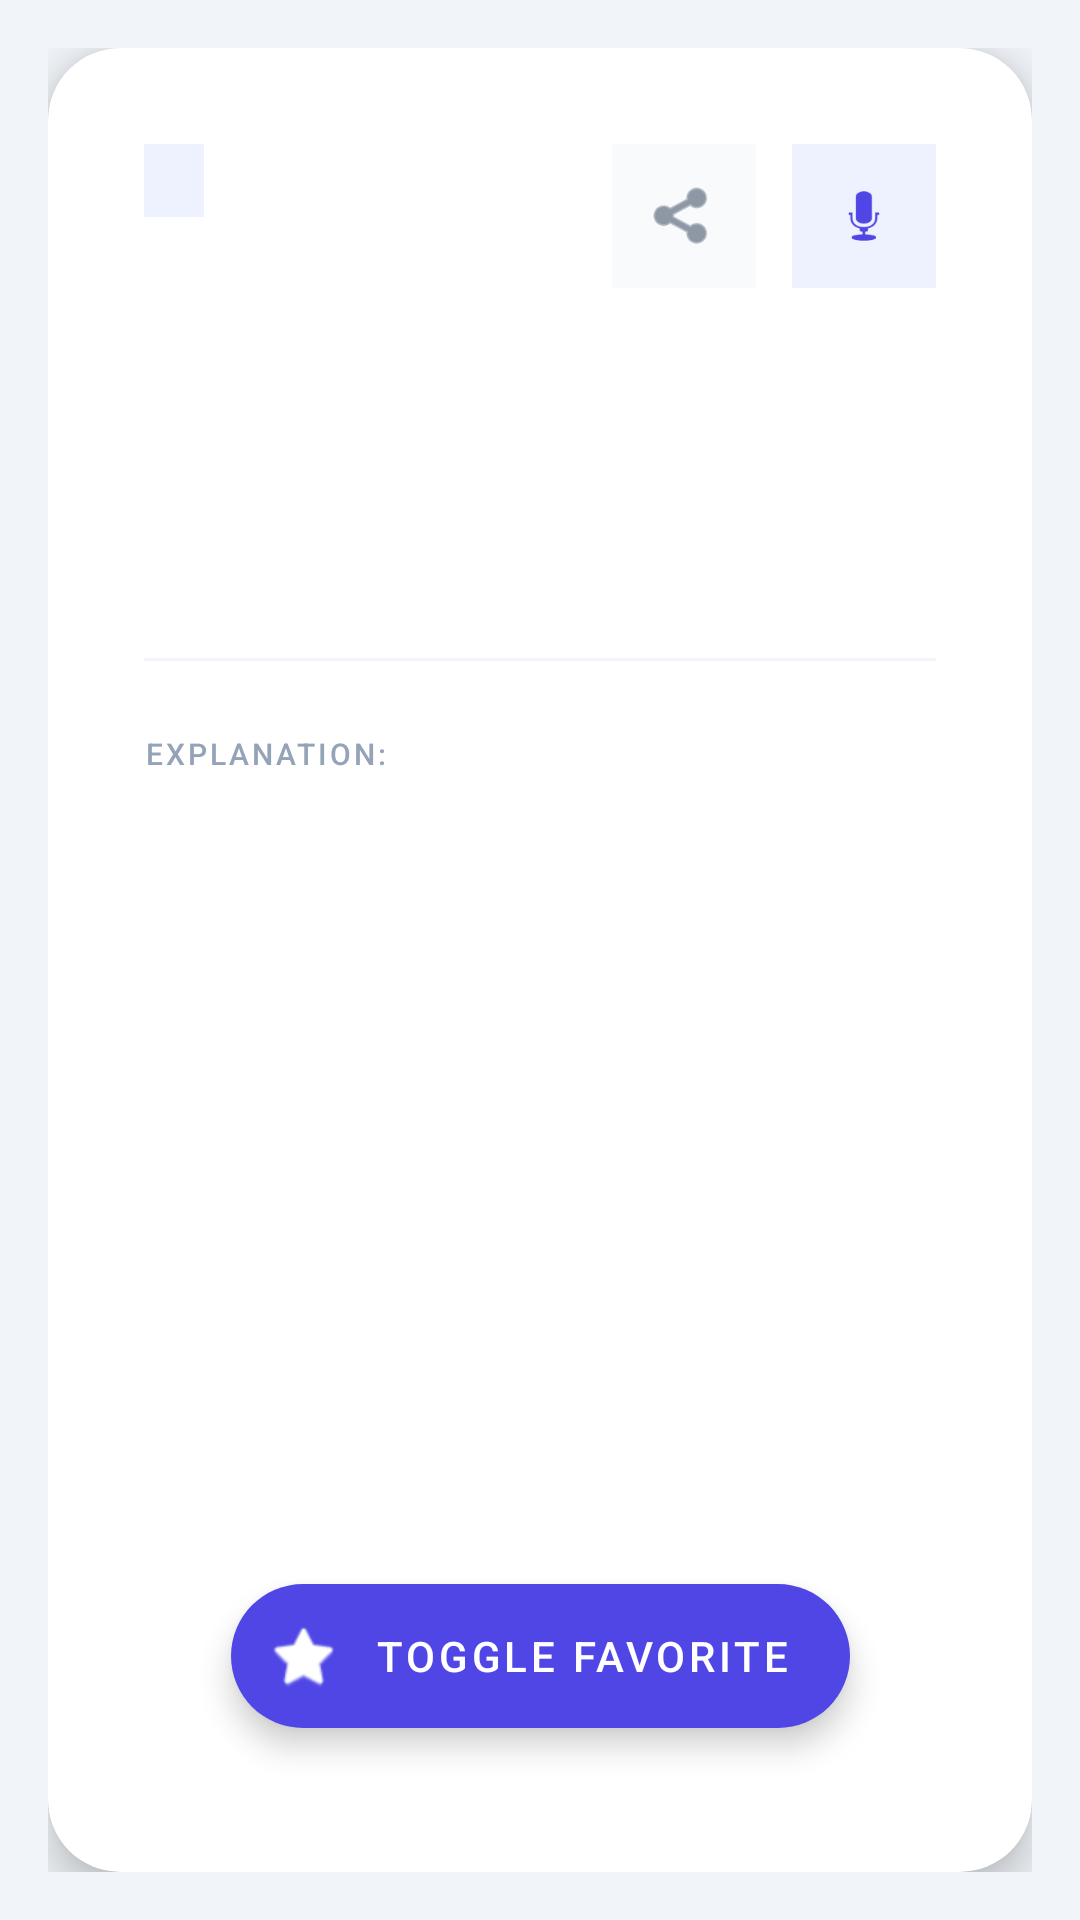

Where to tap for icons on this 1080*1920 app screen, as point (x, y):
share: point (680, 215)
speak now: point (864, 216)
